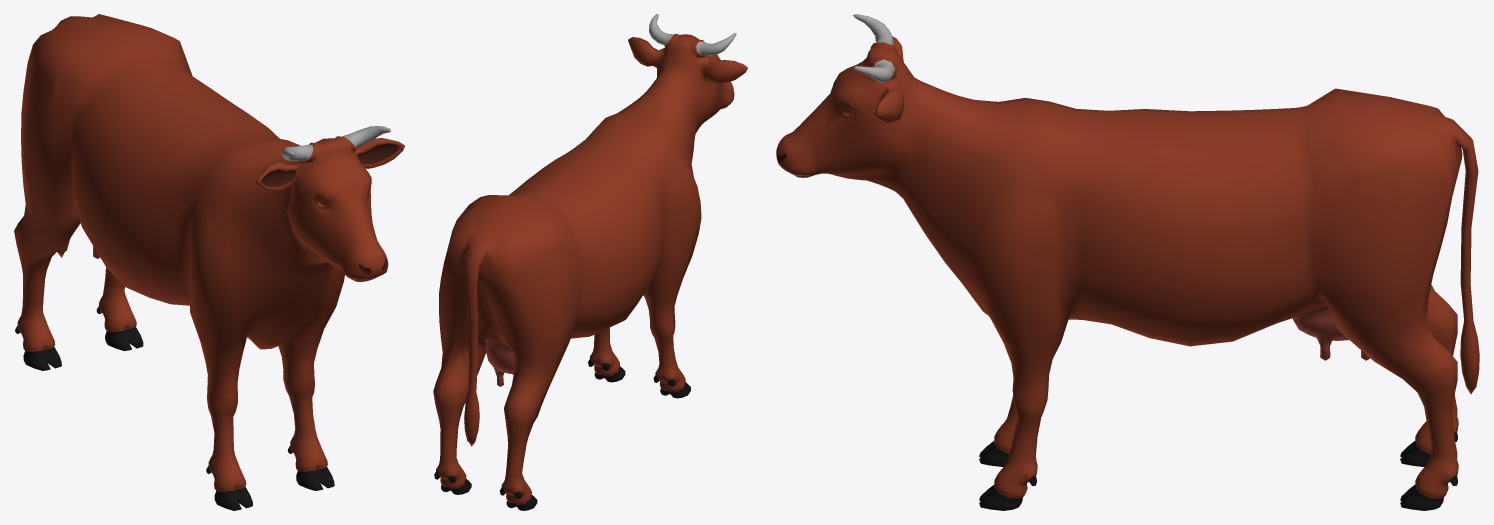
Rendered from cow_cow.obj.
The picture shows the model from 3 angles, left to right: view 1: azimuth 30°, elevation 25°; view 2: azimuth 150°, elevation 25°; view 3: azimuth 270°, elevation 25°; orthographic projection. The views are drawn at different scales.
Parts seen in each view (by area): view 1: cow; view 2: cow; view 3: cow.
Boxes of the visible parts, bbox=[...] form: cow: bbox=[14, 14, 404, 510]; cow: bbox=[433, 14, 747, 510]; cow: bbox=[776, 14, 1479, 510].
Bounding box in the file's own units: 0.677 × 1.53 × 2.22.
